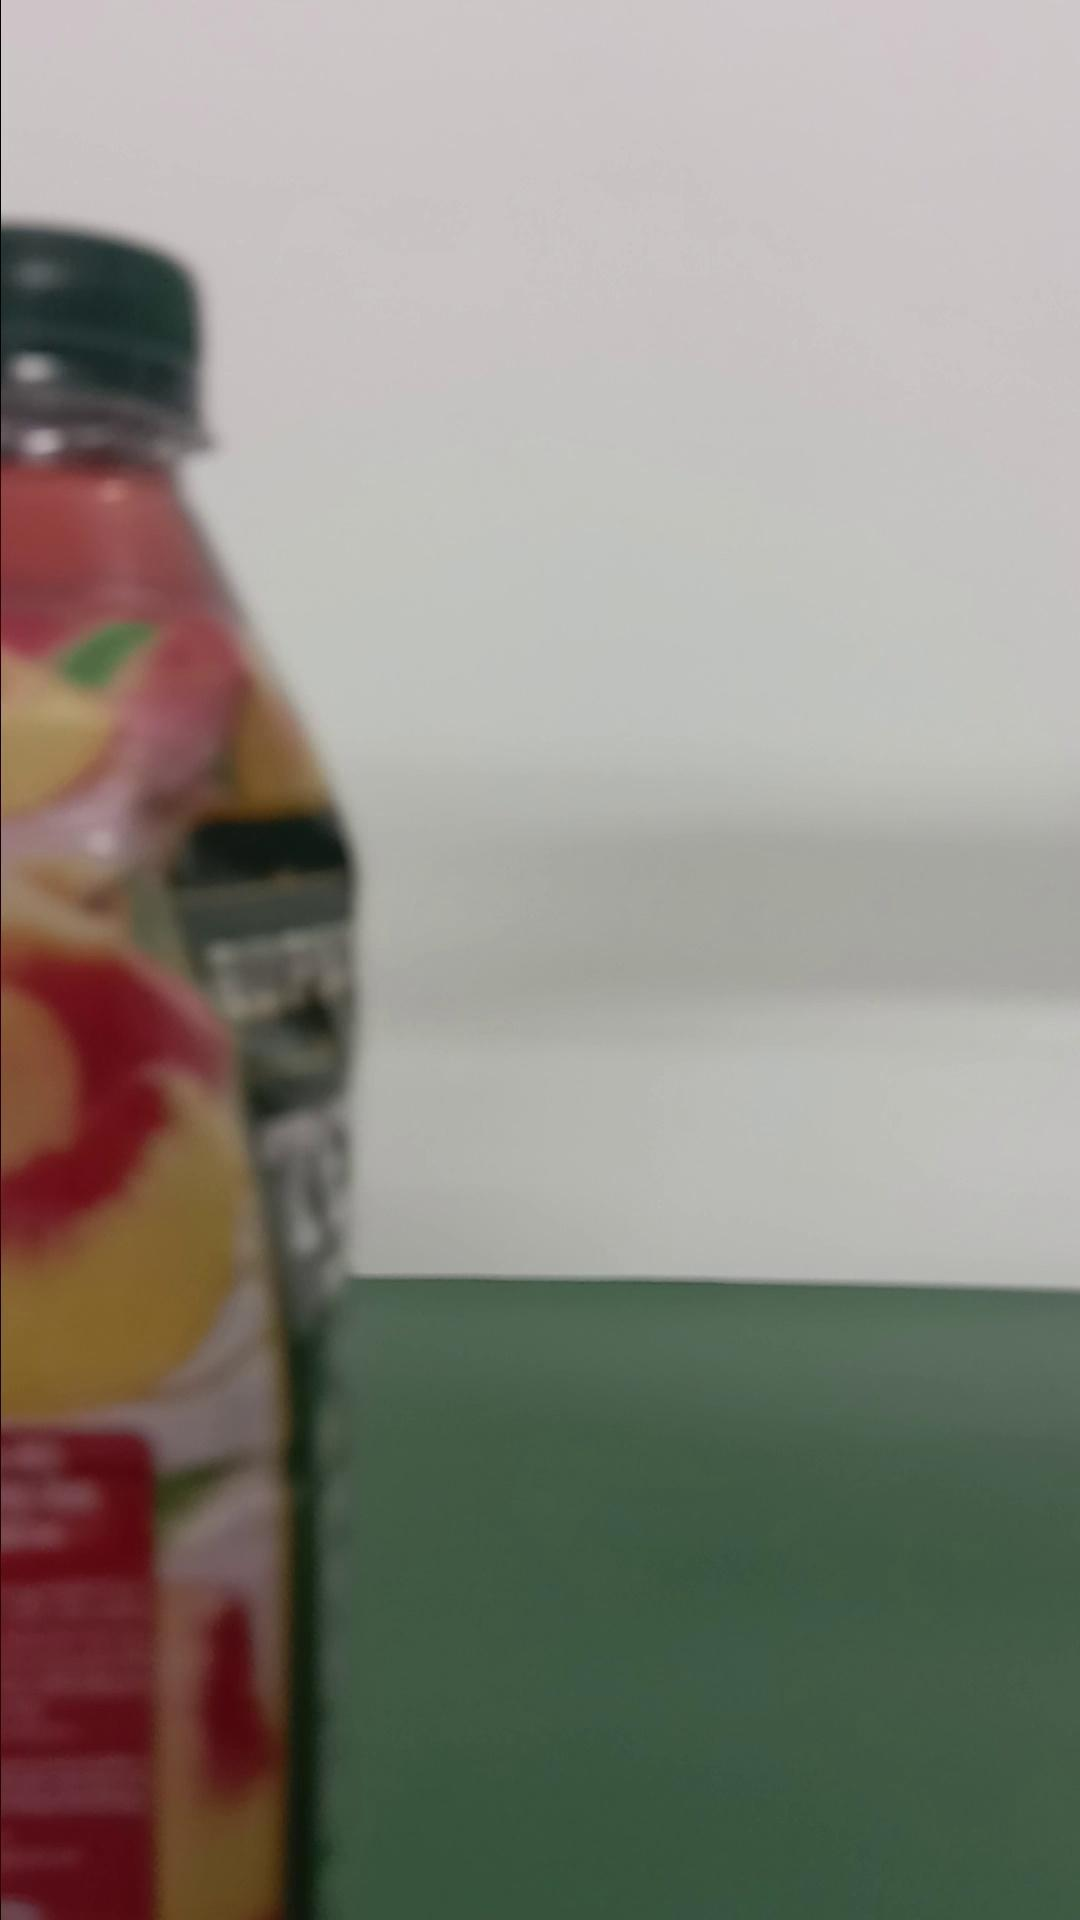loi meo sp: (3, 219, 361, 1913)
